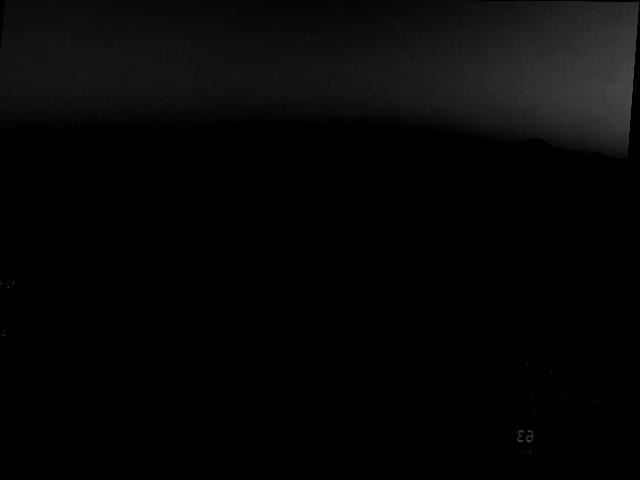hedef: (241, 221, 295, 245)
